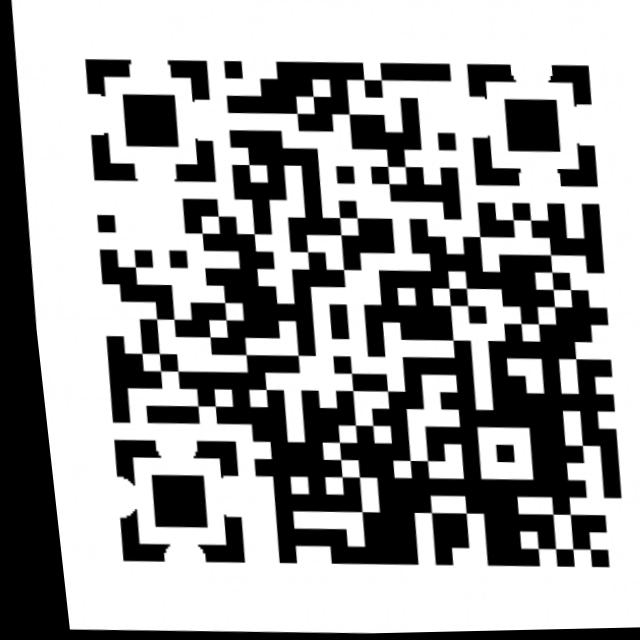QR_CODE: (41, 34, 640, 601)
